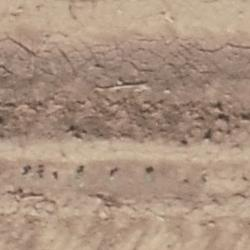cotton: (110, 171, 116, 179), (75, 173, 81, 178), (203, 175, 207, 181), (38, 172, 43, 176), (147, 173, 150, 179)
